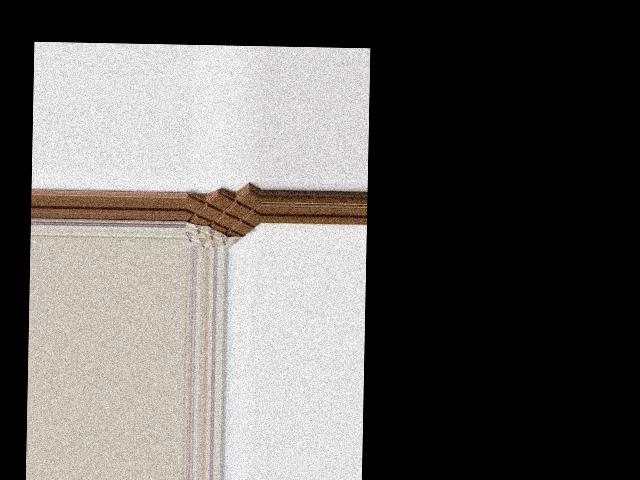chocolate: (184, 187, 260, 248)
